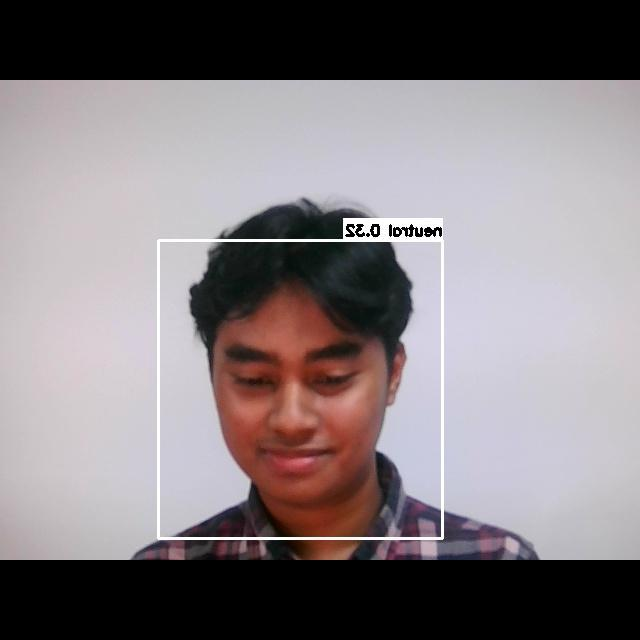Happy: (205, 316, 403, 495)
